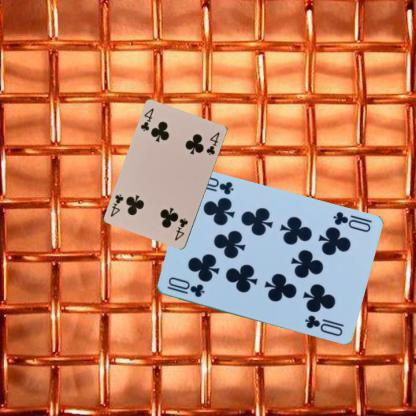10c: (164, 274, 206, 299), (330, 209, 371, 234)
4c: (172, 216, 190, 242), (138, 106, 155, 133)
